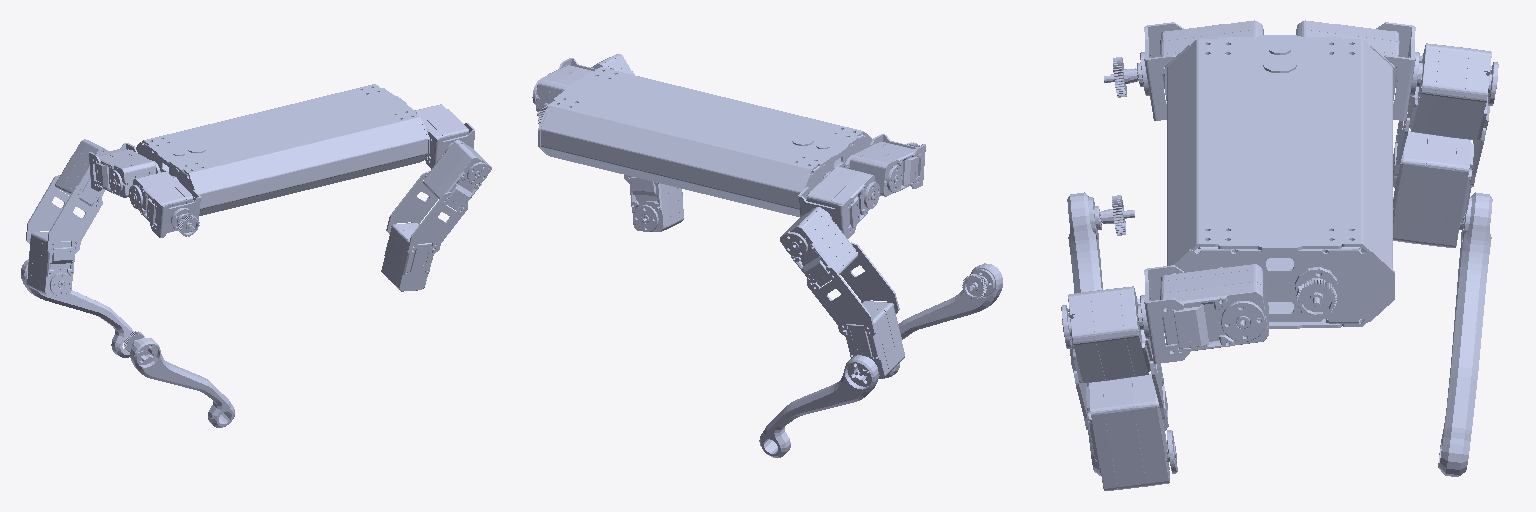
The robot description file, URDF, robot "quadruped_description":
<!-- This URDF was automatically created by SolidWorks to URDF Exporter! Originally created by Stephen Brawner (brawner@gmail.com) 
     Commit Version: 1.6.0-4-g7f85cfe  Build Version: 1.6.7995.38578
     For more information, please see http://wiki.ros.org/sw_urdf_exporter -->
<robot
  name="quadruped_description">
  <link
    name="base_link">
    <inertial>
      <origin
        xyz="0.0010664 -2.9668E-11 0.020254"
        rpy="0 0 0" />
      <mass
        value="0.094037" />
      <inertia
        ixx="0.00011281"
        ixy="-1.2535E-09"
        ixz="-3.8741E-07"
        iyy="0.00051375"
        iyz="-1.1243E-13"
        izz="0.0005809" />
    </inertial>
    <visual>
      <origin
        xyz="0 0 0"
        rpy="0 0 0" />
      <geometry>
        <mesh
          filename="package://quadruped_description/meshes/visual/base_link.STL" />
      </geometry>
      <material
        name="">
        <color
          rgba="0.79216 0.81961 0.93333 1" />
      </material>
    </visual>
    <collision>
      <origin
        xyz="0 0 0"
        rpy="0 0 0" />
      <geometry>
        <mesh
          filename="package://quadruped_description/meshes/collision/base_link.STL" />
      </geometry>
    </collision>
  </link>
  <link
    name="hip_fl_link">
    <inertial>
      <origin
        xyz="0.01441 0.015487 -3.6296E-06"
        rpy="0 0 0" />
      <mass
        value="0.036932" />
      <inertia
        ixx="1.0384E-05"
        ixy="2.2805E-07"
        ixz="1.4325E-09"
        iyy="4.9125E-06"
        iyz="9.3618E-10"
        izz="1.1663E-05" />
    </inertial>
    <visual>
      <origin
        xyz="0 0 0"
        rpy="0 0 0" />
      <geometry>
        <mesh
          filename="package://quadruped_description/meshes/visual/hip_fl_link.STL" />
      </geometry>
      <material
        name="">
        <color
          rgba="0.79216 0.81961 0.93333 1" />
      </material>
    </visual>
    <collision>
      <origin
        xyz="0 0 0"
        rpy="0 0 0" />
      <geometry>
        <mesh
          filename="package://quadruped_description/meshes/collision/hip_fl_link.STL" />
      </geometry>
    </collision>
  </link>
  <joint
    name="hip_fl_joint"
    type="revolute">
    <origin
      xyz="0.11257 0.016 0.02001"
      rpy="-0.13963 0 0" />
    <parent
      link="base_link" />
    <child
      link="hip_fl_link" />
    <axis
      xyz="1 0 0" />
    <limit
      lower="-0.6"
      upper="0.6"
      effort="1"
      velocity="8" />
    <safety_controller
      soft_upper_limit="3"
      soft_lower_limit="-3"
      k_position="25"
      k_velocity="1.5" />
  </joint>
  <link
    name="thigh_fl_link">
    <inertial>
      <origin
        xyz="0.0059586 0.0144 -0.050967"
        rpy="0 0 0" />
      <mass
        value="0.070547" />
      <inertia
        ixx="0.00011482"
        ixy="1.1571E-07"
        ixz="1.7711E-05"
        iyy="0.00011582"
        iyz="-4.6911E-07"
        izz="1.3808E-05" />
    </inertial>
    <visual>
      <origin
        xyz="0 0 0"
        rpy="0 0 0" />
      <geometry>
        <mesh
          filename="package://quadruped_description/meshes/visual/thigh_fl_link.STL" />
      </geometry>
      <material
        name="">
        <color
          rgba="0.79216 0.81961 0.93333 1" />
      </material>
    </visual>
    <collision>
      <origin
        xyz="0 0 0"
        rpy="0 0 0" />
      <geometry>
        <mesh
          filename="package://quadruped_description/meshes/collision/thigh_fl_link.STL" />
      </geometry>
    </collision>
  </link>
  <joint
    name="thigh_fl_joint"
    type="revolute">
    <origin
      xyz="0.01414 0.046369 0"
      rpy="0 0.69813 0" />
    <parent
      link="hip_fl_link" />
    <child
      link="thigh_fl_link" />
    <axis
      xyz="0 1 0" />
    <limit
      lower="-1"
      upper="1.2"
      effort="1.2"
      velocity="7" />
    <safety_controller
      soft_upper_limit="3"
      soft_lower_limit="-3"
      k_position="20"
      k_velocity="1.2" />
  </joint>
  <link
    name="shank_fl_link">
    <inertial>
      <origin
        xyz="0.038486 0.0078703 -0.025809"
        rpy="0 0 0" />
      <mass
        value="0.01943" />
      <inertia
        ixx="8.3797E-06"
        ixy="-6.9541E-07"
        ixz="1.2055E-05"
        iyy="2.8711E-05"
        iyz="4.662E-07"
        izz="2.1085E-05" />
    </inertial>
    <visual>
      <origin
        xyz="0 0 0"
        rpy="0 0 0" />
      <geometry>
        <mesh
          filename="package://quadruped_description/meshes/visual/shank_fl_link.STL" />
      </geometry>
      <material
        name="">
        <color
          rgba="0.79216 0.81961 0.93333 1" />
      </material>
    </visual>
    <collision>
      <origin
        xyz="0 0 0"
        rpy="0 0 0" />
      <geometry>
        <mesh
          filename="package://quadruped_description/meshes/collision/shank_fl_link.STL" />
      </geometry>
    </collision>
  </link>
  <joint
    name="knee_fl_joint"
    type="revolute">
    <origin
      xyz="0.018944 0.0288 -0.1"
      rpy="0 -0.5236 0" />
    <parent
      link="thigh_fl_link" />
    <child
      link="shank_fl_link" />
    <axis
      xyz="0 -1 0" />
    <limit
      lower="-0.1"
      upper="2.4"
      effort="1.1"
      velocity="9" />
    <safety_controller
      soft_upper_limit="3"
      soft_lower_limit="-3"
      k_position="15"
      k_velocity="1" />
  </joint>
  <link
    name="hip_fr_link">
    <inertial>
      <origin
        xyz="0.01441 -0.015487 -3.9483E-06"
        rpy="0 0 0" />
      <mass
        value="0.036932" />
      <inertia
        ixx="1.0384E-05"
        ixy="-2.2743E-07"
        ixz="-1.4392E-09"
        iyy="4.9125E-06"
        iyz="9.3326E-10"
        izz="1.1663E-05" />
    </inertial>
    <visual>
      <origin
        xyz="0 0 0"
        rpy="0 0 0" />
      <geometry>
        <mesh
          filename="package://quadruped_description/meshes/visual/hip_fr_link.STL" />
      </geometry>
      <material
        name="">
        <color
          rgba="0.79216 0.81961 0.93333 1" />
      </material>
    </visual>
    <collision>
      <origin
        xyz="0 0 0"
        rpy="0 0 0" />
      <geometry>
        <mesh
          filename="package://quadruped_description/meshes/collision/hip_fr_link.STL" />
      </geometry>
    </collision>
  </link>
  <joint
    name="hip_fr_joint"
    type="revolute">
    <origin
      xyz="0.11257 -0.016 0.02001"
      rpy="0.13963 0 0" />
    <parent
      link="base_link" />
    <child
      link="hip_fr_link" />
    <axis
      xyz="-1 0 0" />
    <limit
      lower="-0.6"
      upper="0.6"
      effort="1"
      velocity="8" />
    <safety_controller
      soft_upper_limit="3"
      soft_lower_limit="-3"
      k_position="25"
      k_velocity="1.5" />
  </joint>
  <link
    name="thigh_fr_link">
    <inertial>
      <origin
        xyz="0.0059512 -0.0144 -0.050969"
        rpy="0 0 0" />
      <mass
        value="0.070547" />
      <inertia
        ixx="0.00011483"
        ixy="-1.1609E-07"
        ixz="1.7712E-05"
        iyy="0.00011583"
        iyz="4.7054E-07"
        izz="1.3811E-05" />
    </inertial>
    <visual>
      <origin
        xyz="0 0 0"
        rpy="0 0 0" />
      <geometry>
        <mesh
          filename="package://quadruped_description/meshes/visual/thigh_fr_link.STL" />
      </geometry>
      <material
        name="">
        <color
          rgba="0.79216 0.81961 0.93333 1" />
      </material>
    </visual>
    <collision>
      <origin
        xyz="0 0 0"
        rpy="0 0 0" />
      <geometry>
        <mesh
          filename="package://quadruped_description/meshes/collision/thigh_fr_link.STL" />
      </geometry>
    </collision>
  </link>
  <joint
    name="thigh_fr_joint"
    type="revolute">
    <origin
      xyz="0.01414 -0.046369 0"
      rpy="0 0.69813 0" />
    <parent
      link="hip_fr_link" />
    <child
      link="thigh_fr_link" />
    <axis
      xyz="0 1 0" />
    <limit
      lower="-1"
      upper="1.2"
      effort="1.2"
      velocity="7" />
    <safety_controller
      soft_upper_limit="3"
      soft_lower_limit="-3"
      k_position="20"
      k_velocity="1.2" />
  </joint>
  <link
    name="shank_fr_link">
    <inertial>
      <origin
        xyz="0.038487 -0.0078703 -0.025809"
        rpy="0 0 0" />
      <mass
        value="0.01943" />
      <inertia
        ixx="8.3797E-06"
        ixy="6.9502E-07"
        ixz="1.2055E-05"
        iyy="2.871E-05"
        iyz="-4.662E-07"
        izz="2.1083E-05" />
    </inertial>
    <visual>
      <origin
        xyz="0 0 0"
        rpy="0 0 0" />
      <geometry>
        <mesh
          filename="package://quadruped_description/meshes/visual/shank_fr_link.STL" />
      </geometry>
      <material
        name="">
        <color
          rgba="0.79216 0.81961 0.93333 1" />
      </material>
    </visual>
    <collision>
      <origin
        xyz="0 0 0"
        rpy="0 0 0" />
      <geometry>
        <mesh
          filename="package://quadruped_description/meshes/collision/shank_fr_link.STL" />
      </geometry>
    </collision>
  </link>
  <joint
    name="knee_fr_joint"
    type="revolute">
    <origin
      xyz="0.018944 -0.0288 -0.1"
      rpy="0 -0.5236 0" />
    <parent
      link="thigh_fr_link" />
    <child
      link="shank_fr_link" />
    <axis
      xyz="0 -1 0" />
    <limit
      lower="-0.1"
      upper="2.4"
      effort="1.1"
      velocity="9" />
    <safety_controller
      soft_upper_limit="3"
      soft_lower_limit="-3"
      k_position="15"
      k_velocity="1" />
  </joint>
  <link
    name="hip_rr_link">
    <inertial>
      <origin
        xyz="0.01441 -0.015487 -3.9483E-06"
        rpy="0 0 0" />
      <mass
        value="0.036932" />
      <inertia
        ixx="1.0384E-05"
        ixy="-2.2743E-07"
        ixz="-1.4392E-09"
        iyy="4.9125E-06"
        iyz="9.3326E-10"
        izz="1.1663E-05" />
    </inertial>
    <visual>
      <origin
        xyz="0 0 0"
        rpy="0 0 0" />
      <geometry>
        <mesh
          filename="package://quadruped_description/meshes/visual/hip_rr_link.STL" />
      </geometry>
      <material
        name="">
        <color
          rgba="0.79216 0.81961 0.93333 1" />
      </material>
    </visual>
    <collision>
      <origin
        xyz="0 0 0"
        rpy="0 0 0" />
      <geometry>
        <mesh
          filename="package://quadruped_description/meshes/collision/hip_rr_link.STL" />
      </geometry>
    </collision>
  </link>
  <joint
    name="hip_rr_joint"
    type="revolute">
    <origin
      xyz="-0.10995 -0.016 0.02001"
      rpy="0.13963 0 0" />
    <parent
      link="base_link" />
    <child
      link="hip_rr_link" />
    <axis
      xyz="-1 0 0" />
    <limit
      lower="-0.6"
      upper="0.6"
      effort="1"
      velocity="8" />
    <safety_controller
      soft_upper_limit="3"
      soft_lower_limit="-3"
      k_position="25"
      k_velocity="1.5" />
  </joint>
  <link
    name="thigh_rr_link">
    <inertial>
      <origin
        xyz="0.0059512 -0.0144 -0.050969"
        rpy="0 0 0" />
      <mass
        value="0.070547" />
      <inertia
        ixx="0.00011483"
        ixy="-1.1609E-07"
        ixz="1.7712E-05"
        iyy="0.00011583"
        iyz="4.7054E-07"
        izz="1.3811E-05" />
    </inertial>
    <visual>
      <origin
        xyz="0 0 0"
        rpy="0 0 0" />
      <geometry>
        <mesh
          filename="package://quadruped_description/meshes/visual/thigh_rr_link.STL" />
      </geometry>
      <material
        name="">
        <color
          rgba="0.79216 0.81961 0.93333 1" />
      </material>
    </visual>
    <collision>
      <origin
        xyz="0 0 0"
        rpy="0 0 0" />
      <geometry>
        <mesh
          filename="package://quadruped_description/meshes/collision/thigh_rr_link.STL" />
      </geometry>
    </collision>
  </link>
  <joint
    name="thigh_rr_joint"
    type="revolute">
    <origin
      xyz="-0.01414 -0.046369 0"
      rpy="0 0.69813 0" />
    <parent
      link="hip_rr_link" />
    <child
      link="thigh_rr_link" />
    <axis
      xyz="0 1 0" />
    <limit
      lower="-1"
      upper="1.2"
      effort="1.2"
      velocity="7" />
    <safety_controller
      soft_upper_limit="3"
      soft_lower_limit="-3"
      k_position="20"
      k_velocity="1.2" />
  </joint>
  <link
    name="shank_rr_link">
    <inertial>
      <origin
        xyz="0.038487 -0.0078703 -0.025809"
        rpy="0 0 0" />
      <mass
        value="0.01943" />
      <inertia
        ixx="8.3797E-06"
        ixy="6.9502E-07"
        ixz="1.2055E-05"
        iyy="2.871E-05"
        iyz="-4.662E-07"
        izz="2.1083E-05" />
    </inertial>
    <visual>
      <origin
        xyz="0 0 0"
        rpy="0 0 0" />
      <geometry>
        <mesh
          filename="package://quadruped_description/meshes/visual/shank_rr_link.STL" />
      </geometry>
      <material
        name="">
        <color
          rgba="0.79216 0.81961 0.93333 1" />
      </material>
    </visual>
    <collision>
      <origin
        xyz="0 0 0"
        rpy="0 0 0" />
      <geometry>
        <mesh
          filename="package://quadruped_description/meshes/collision/shank_rr_link.STL" />
      </geometry>
    </collision>
  </link>
  <joint
    name="knee_rr_joint"
    type="revolute">
    <origin
      xyz="0.018944 -0.0288 -0.1"
      rpy="0 -0.5236 0" />
    <parent
      link="thigh_rr_link" />
    <child
      link="shank_rr_link" />
    <axis
      xyz="0 -1 0" />
    <limit
      lower="-0.1"
      upper="2.4"
      effort="1.1"
      velocity="9" />
    <safety_controller
      soft_upper_limit="3"
      soft_lower_limit="-3"
      k_position="15"
      k_velocity="1" />
  </joint>
  <link
    name="hip_rl_link">
    <inertial>
      <origin
        xyz="0.01441 0.015487 -3.6296E-06"
        rpy="0 0 0" />
      <mass
        value="0.036932" />
      <inertia
        ixx="1.0384E-05"
        ixy="2.2805E-07"
        ixz="1.4325E-09"
        iyy="4.9125E-06"
        iyz="9.3618E-10"
        izz="1.1663E-05" />
    </inertial>
    <visual>
      <origin
        xyz="0 0 0"
        rpy="0 0 0" />
      <geometry>
        <mesh
          filename="package://quadruped_description/meshes/visual/hip_rl_link.STL" />
      </geometry>
      <material
        name="">
        <color
          rgba="0.79216 0.81961 0.93333 1" />
      </material>
    </visual>
    <collision>
      <origin
        xyz="0 0 0"
        rpy="0 0 0" />
      <geometry>
        <mesh
          filename="package://quadruped_description/meshes/collision/hip_rl_link.STL" />
      </geometry>
    </collision>
  </link>
  <joint
    name="hip_rl_joint"
    type="revolute">
    <origin
      xyz="-0.10995 0.016 0.02001"
      rpy="-0.13963 0 0" />
    <parent
      link="base_link" />
    <child
      link="hip_rl_link" />
    <axis
      xyz="1 0 0" />
    <limit
      lower="-0.6"
      upper="0.6"
      effort="1"
      velocity="8" />
    <safety_controller
      soft_upper_limit="3"
      soft_lower_limit="-3"
      k_position="25"
      k_velocity="1.5" />
  </joint>
  <link
    name="thigh_rl_link">
    <inertial>
      <origin
        xyz="0.0059586 0.0144 -0.050967"
        rpy="0 0 0" />
      <mass
        value="0.070547" />
      <inertia
        ixx="0.00011482"
        ixy="1.1571E-07"
        ixz="1.7711E-05"
        iyy="0.00011582"
        iyz="-4.6911E-07"
        izz="1.3808E-05" />
    </inertial>
    <visual>
      <origin
        xyz="0 0 0"
        rpy="0 0 0" />
      <geometry>
        <mesh
          filename="package://quadruped_description/meshes/visual/thigh_rl_link.STL" />
      </geometry>
      <material
        name="">
        <color
          rgba="0.79216 0.81961 0.93333 1" />
      </material>
    </visual>
    <collision>
      <origin
        xyz="0 0 0"
        rpy="0 0 0" />
      <geometry>
        <mesh
          filename="package://quadruped_description/meshes/collision/thigh_rl_link.STL" />
      </geometry>
    </collision>
  </link>
  <joint
    name="thigh_rl_joint"
    type="revolute">
    <origin
      xyz="-0.01414 0.046369 0"
      rpy="0 0.69813 0" />
    <parent
      link="hip_rl_link" />
    <child
      link="thigh_rl_link" />
    <axis
      xyz="0 1 0" />
    <limit
      lower="-1"
      upper="1.2"
      effort="1.2"
      velocity="7" />
    <safety_controller
      soft_upper_limit="3"
      soft_lower_limit="-3"
      k_position="20"
      k_velocity="1.2" />
  </joint>
  <link
    name="shank_rl_link">
    <inertial>
      <origin
        xyz="0.038486 0.0078703 -0.025809"
        rpy="0 0 0" />
      <mass
        value="0.01943" />
      <inertia
        ixx="8.3797E-06"
        ixy="-6.9541E-07"
        ixz="1.2055E-05"
        iyy="2.8711E-05"
        iyz="4.662E-07"
        izz="2.1085E-05" />
    </inertial>
    <visual>
      <origin
        xyz="0 0 0"
        rpy="0 0 0" />
      <geometry>
        <mesh
          filename="package://quadruped_description/meshes/visual/shank_rl_link.STL" />
      </geometry>
      <material
        name="">
        <color
          rgba="0.79216 0.81961 0.93333 1" />
      </material>
    </visual>
    <collision>
      <origin
        xyz="0 0 0"
        rpy="0 0 0" />
      <geometry>
        <mesh
          filename="package://quadruped_description/meshes/collision/shank_rl_link.STL" />
      </geometry>
    </collision>
  </link>
  <joint
    name="knee_rl_joint"
    type="revolute">
    <origin
      xyz="0.018944 0.0288 -0.1"
      rpy="0 -0.5236 0" />
    <parent
      link="thigh_rl_link" />
    <child
      link="shank_rl_link" />
    <axis
      xyz="0 -1 0" />
    <limit
      lower="-0.1"
      upper="2.4"
      effort="1.1"
      velocity="9" />
    <safety_controller
      soft_upper_limit="3"
      soft_lower_limit="-3"
      k_position="15"
      k_velocity="1" />
  </joint>
</robot>

--- Render facts (derived) ---
Views: 3 orthographic renders of the robot side by side, from view 1: azimuth 30°, elevation 25°; view 2: azimuth 150°, elevation 25°; view 3: azimuth 270°, elevation 25°.
Model quadruped_description with 13 links and 12 joints (12 revolute), rooted at base_link, posed every joint at zero.
Visible links, largest first — view 1: base_link, thigh_fr_link, thigh_rl_link, hip_rr_link, shank_rr_link, hip_rl_link, hip_fr_link, shank_rl_link; view 2: base_link, thigh_rl_link, shank_rl_link, hip_rl_link, hip_rr_link, shank_rr_link, thigh_fr_link, hip_fr_link; view 3: base_link, thigh_fr_link, thigh_rl_link, hip_fr_link, shank_rl_link, hip_rr_link, hip_rl_link, shank_rr_link.
Boxes of the visible links, x1=… form: base_link: x1=136, y1=84, x2=429, y2=215; thigh_fr_link: x1=381, y1=140, x2=491, y2=291; thigh_rl_link: x1=26, y1=139, x2=108, y2=295; hip_rr_link: x1=129, y1=171, x2=200, y2=237; shank_rr_link: x1=124, y1=331, x2=234, y2=427; hip_rl_link: x1=89, y1=143, x2=155, y2=197; hip_fr_link: x1=415, y1=104, x2=474, y2=168; shank_rl_link: x1=21, y1=259, x2=133, y2=357; base_link: x1=537, y1=67, x2=872, y2=216; thigh_rl_link: x1=780, y1=207, x2=904, y2=378; shank_rl_link: x1=759, y1=355, x2=878, y2=457; hip_rl_link: x1=798, y1=166, x2=879, y2=238; hip_rr_link: x1=849, y1=134, x2=925, y2=196; shank_rr_link: x1=883, y1=263, x2=1002, y2=378; thigh_fr_link: x1=591, y1=54, x2=683, y2=231; hip_fr_link: x1=532, y1=58, x2=613, y2=111; base_link: x1=1165, y1=35, x2=1394, y2=328; thigh_fr_link: x1=1061, y1=286, x2=1177, y2=490; thigh_rl_link: x1=1393, y1=43, x2=1498, y2=247; hip_fr_link: x1=1137, y1=264, x2=1268, y2=363; shank_rl_link: x1=1438, y1=192, x2=1492, y2=476; hip_rr_link: x1=1104, y1=20, x2=1263, y2=120; hip_rl_link: x1=1296, y1=20, x2=1422, y2=120; shank_rr_link: x1=1067, y1=192, x2=1134, y2=475.
Bounding box of the posed robot: 0.3327 × 0.1907 × 0.2077 m (x, y, z).
Meshes: 13 distinct files referenced, 8 mesh visuals loaded (8 binary STL); not drawn: 5 (reference not matched to a file when rendering).
